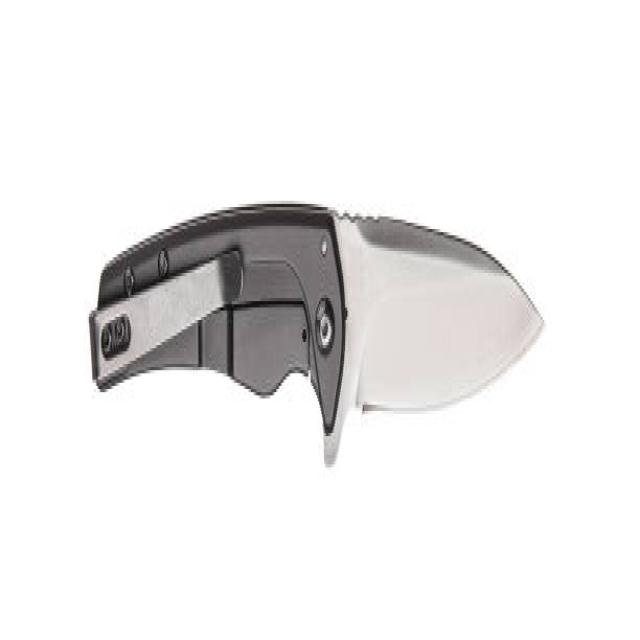knife: (94, 187, 551, 472)
